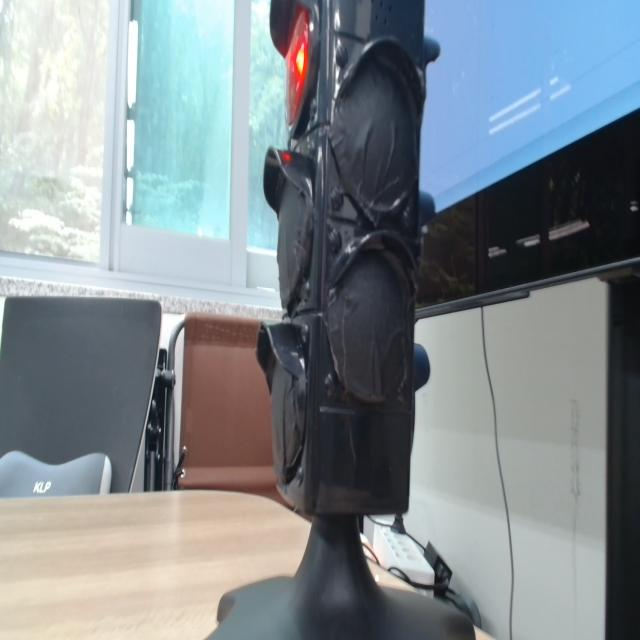red_light: (286, 8, 309, 125)
